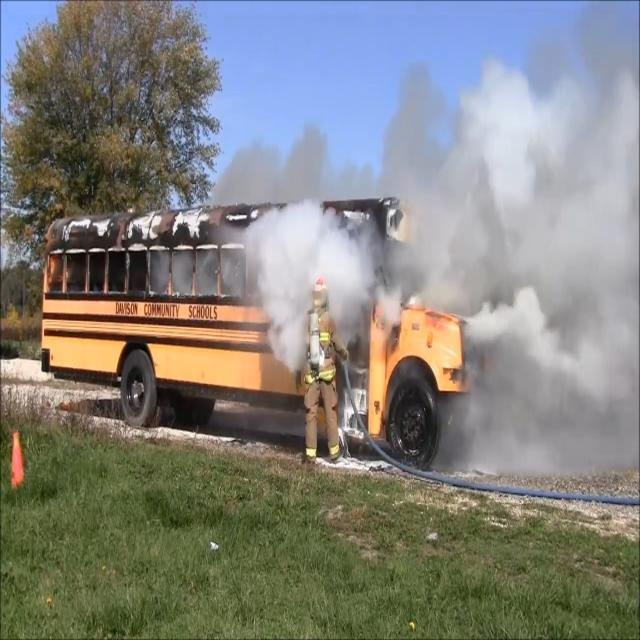Smoke: (459, 96, 640, 436)
